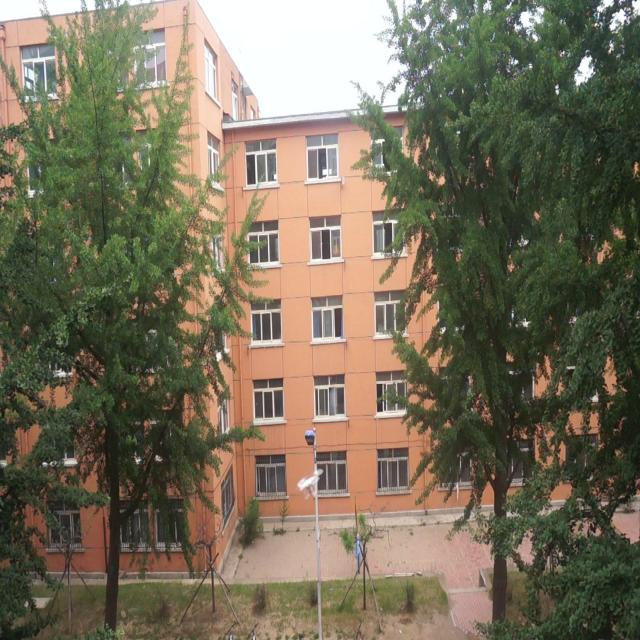drone: (298, 465, 322, 498)
